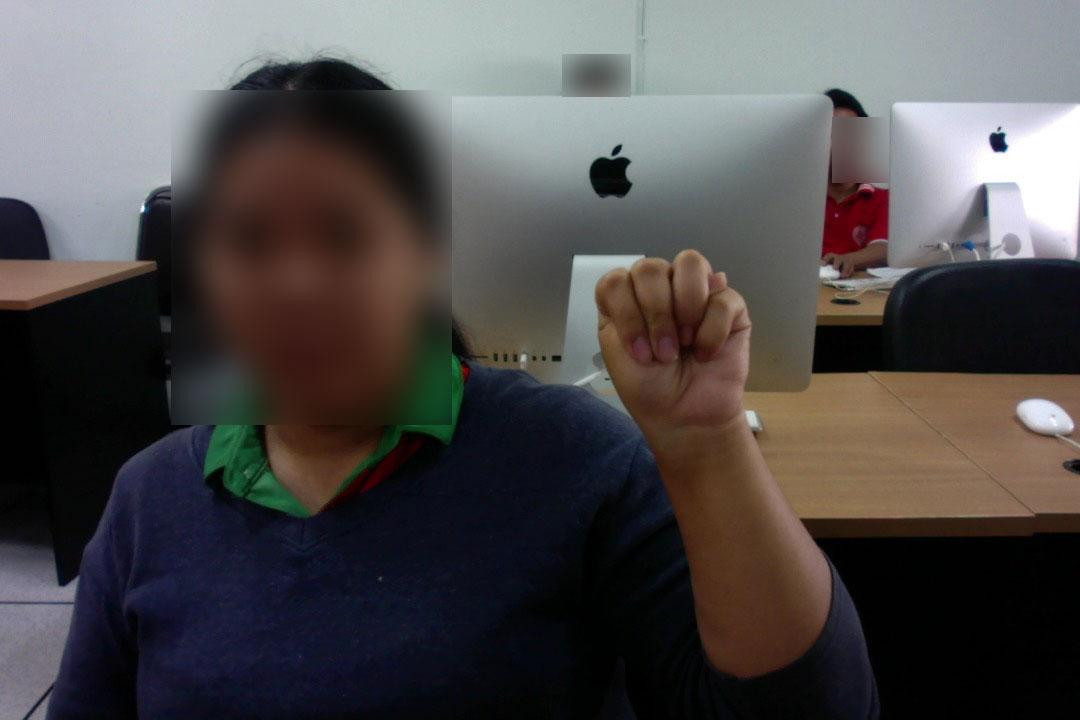mor: (584, 243, 762, 452)
